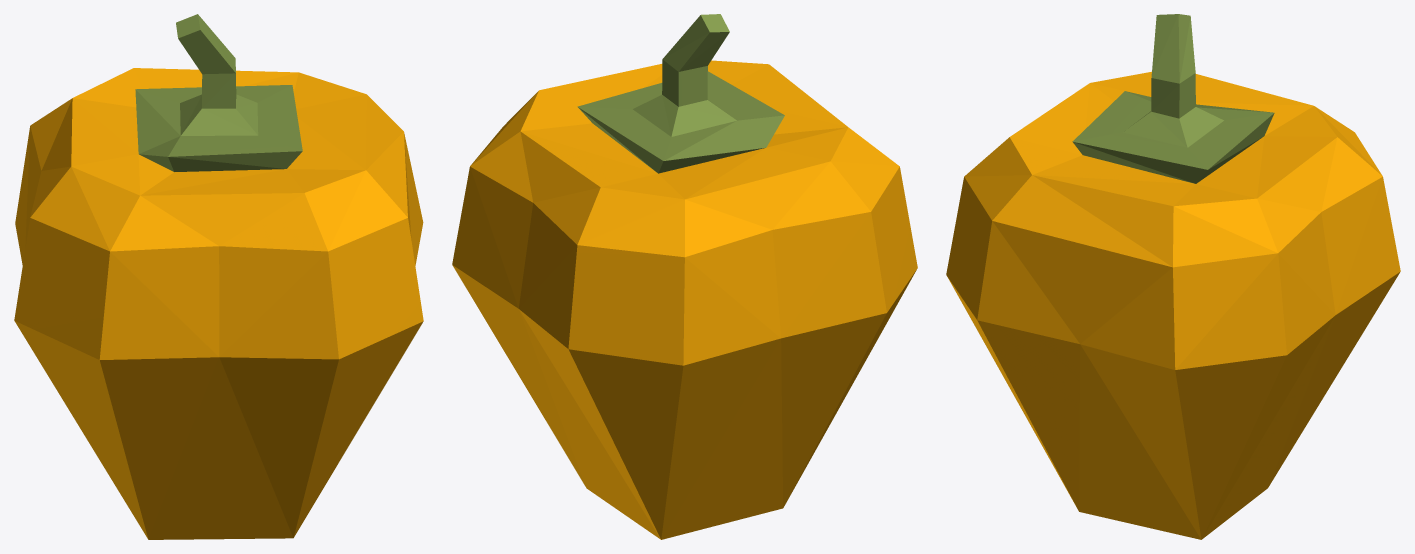
File: Pepper_02.fbx
3 renders of one model, left to right at view 1: azimuth 30°, elevation 25°; view 2: azimuth 150°, elevation 25°; view 3: azimuth 270°, elevation 25°, orthographic. The views are drawn at different scales.
Visible parts, largest first — view 1: Pepper_02; view 2: Pepper_02; view 3: Pepper_02.
Part boxes in pixels (box(x1,y1,x2,y2)): Pepper_02: box(14, 14, 423, 539); Pepper_02: box(452, 14, 917, 539); Pepper_02: box(946, 14, 1400, 539).
Size of the model in its own units: 12.6 by 15.14 by 12.6.
